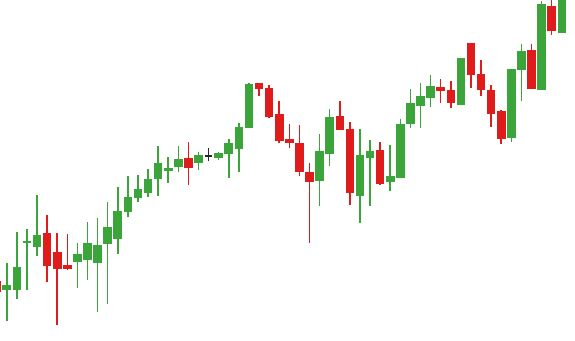buy: (222, 98, 326, 252), (416, 65, 518, 150)
